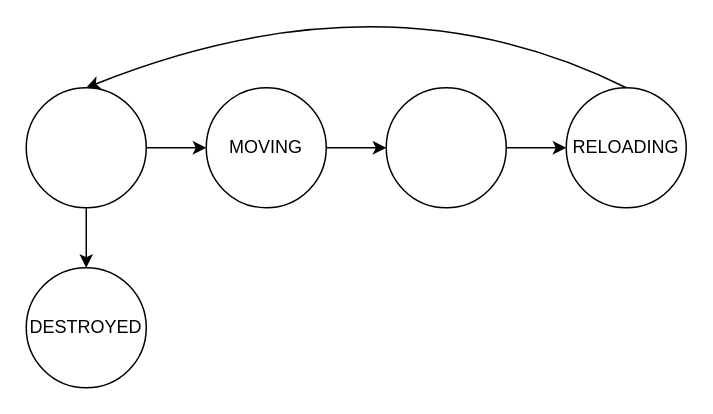
This 713x414 diagram has some shape labels left out. Here are the shapes that lost their labels. From the top down, the centre of each, then its label:
(x=85, y=147): IDLE
(x=445, y=147): FIRING
